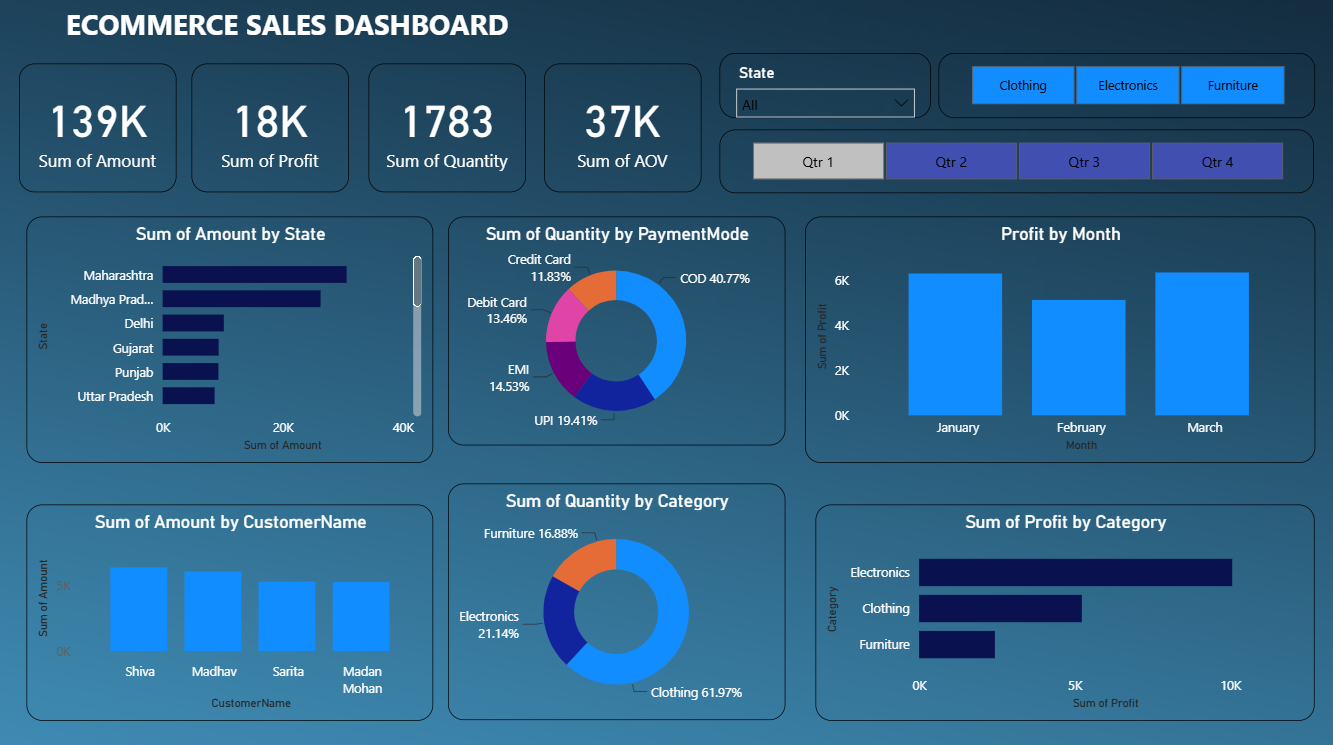

What the dashboard file says about the page in this screenshot:
{"tool":"powerbi","page":{"name":"Page 1","canvas":[1280,720],"ordinal":0},"visuals":[{"type":"textbox","box":[9.4,0,536.7,62.4],"z":0},{"type":"lineStackedColumnComboChart","title":"Profit by Month","fields":{"Category":["Orders.Order Date.Variation.Date Hierarchy.Month"],"Y":["Sum(Details.Profit)"]},"box":[770.7,207.4,486.1,234.7],"z":1000},{"type":"barChart","fields":{"Category":["Details.Category"],"Y":["Sum(Details.Profit)"]},"box":[781.3,481.5,475.5,205.9],"z":2000},{"type":"donutChart","fields":{"Category":["Details.Category"],"Y":["Sum(Details.Quantity)"]},"box":[431.5,461.8,321,225.6],"z":3000},{"type":"donutChart","fields":{"Y":["Sum(Details.Quantity)"],"Category":["Details.PaymentMode"]},"box":[431.5,207.4,321,218],"z":4000},{"type":"card","fields":{"Values":["Sum(Details.Amount)"]},"box":[22.7,62.1,149.9,122.7],"z":5000},{"type":"card","fields":{"Values":["Sum(Details.Quantity)"]},"box":[355.8,62.1,149.9,122.7],"z":6000},{"type":"card","fields":{"Values":["Sum(Details.Profit)"]},"box":[187.8,62.1,149.9,122.7],"z":7000},{"type":"card","fields":{"Values":["Sum(Details.AOV)"]},"box":[522.4,62.1,149.9,122.7],"z":8000},{"type":"barChart","fields":{"Category":["Orders.State"],"Y":["Sum(Details.Amount)"]},"box":[30.3,207.4,387.6,234.7],"z":9000},{"type":"columnChart","fields":{"Category":["Orders.CustomerName"],"Y":["Sum(Details.Amount)"]},"box":[30.3,481.5,387.6,205.9],"z":10000},{"type":"slicer","fields":{"Values":["Orders.Order Date.Variation.Date Hierarchy.Quarter"]},"box":[690.5,124.2,566.3,60.6],"z":11000},{"type":"slicer","fields":{"Values":["Orders.State"]},"box":[690.5,51.5,201.4,62.1],"z":12000},{"type":"slicer","fields":{"Values":["Details.Category"]},"box":[897.9,51.5,358.9,62.1],"z":13000}]}

Visuals, with their boxes in screenshot pixels (x1, y1, x2, y2), scaled from the page's 1280x720 canvas onto the 1333x745 screenshot:
textbox: 10:0:569:65
"Profit by Month" lineStackedColumnComboChart: 803:215:1309:457
barChart - Details.Category x Sum(Details.Profit): 814:498:1309:711
donutChart - Details.Category x Sum(Details.Quantity): 449:478:784:711
donutChart - Sum(Details.Quantity) x Details.PaymentMode: 449:215:784:440
card - Sum(Details.Amount): 24:64:180:191
card - Sum(Details.Quantity): 371:64:527:191
card - Sum(Details.Profit): 196:64:352:191
card - Sum(Details.AOV): 544:64:700:191
barChart - Orders.State x Sum(Details.Amount): 32:215:435:457
columnChart - Orders.CustomerName x Sum(Details.Amount): 32:498:435:711
slicer - Orders.Order Date.Variation.Date Hierarchy.Quarter: 719:129:1309:191
slicer - Orders.State: 719:53:929:118
slicer - Details.Category: 935:53:1309:118
